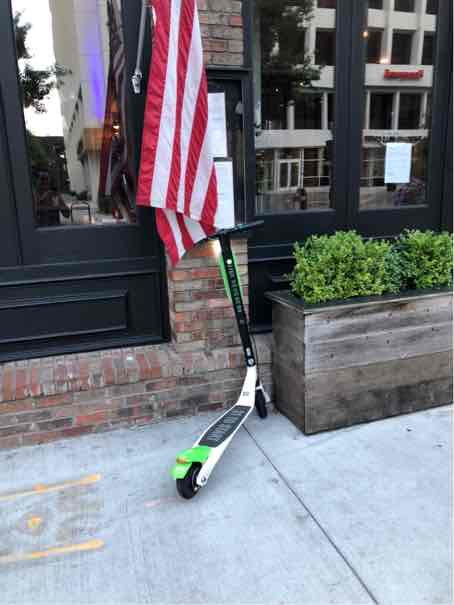scooter: (163, 202, 285, 508)
